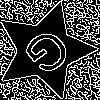G: (20, 25, 82, 86)
